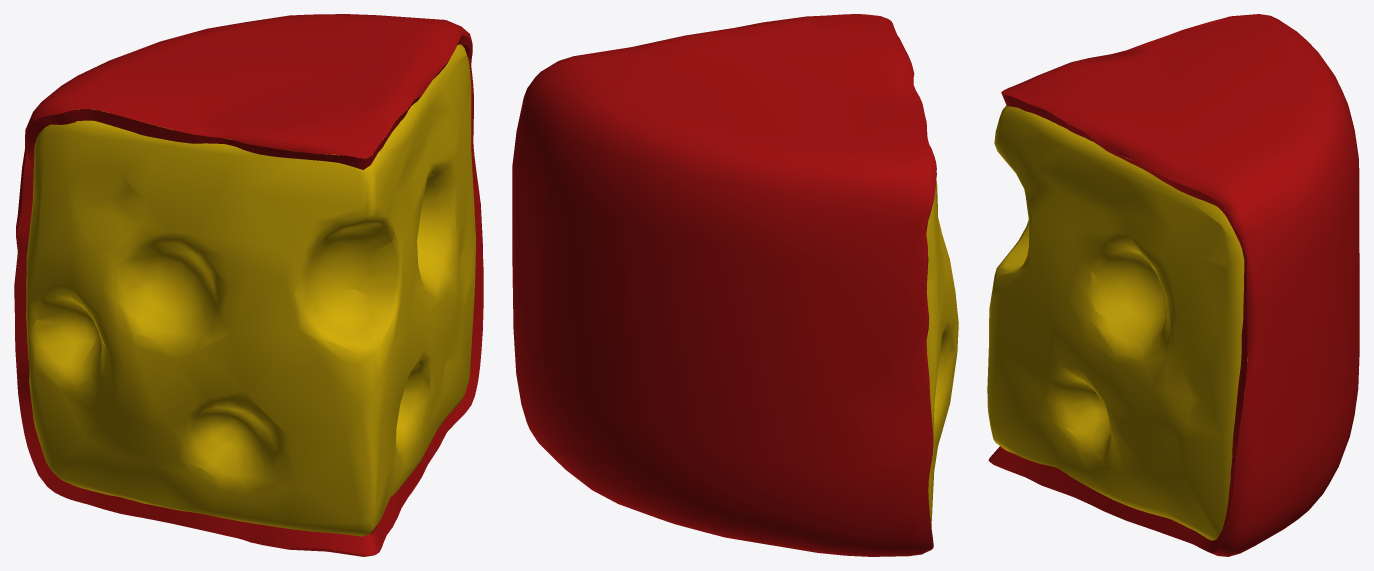
Rendered from cheese.obj.
The picture shows the model from 3 angles, left to right: view 1: azimuth 30°, elevation 25°; view 2: azimuth 150°, elevation 25°; view 3: azimuth 270°, elevation 25°; orthographic projection. The views are drawn at different scales.
Visible parts, largest first — view 1: Cheese_Cheese_rind_Group53820; view 2: Cheese_Cheese_rind_Group53820; view 3: Cheese_Cheese_rind_Group53820.
Boxes of the visible parts, x1,y1,x2,y2 form: Cheese_Cheese_rind_Group53820: [14, 14, 483, 556]; Cheese_Cheese_rind_Group53820: [512, 14, 958, 556]; Cheese_Cheese_rind_Group53820: [987, 14, 1359, 556].
Size of the model in its own units: 1.31 by 1.18 by 1.02.
